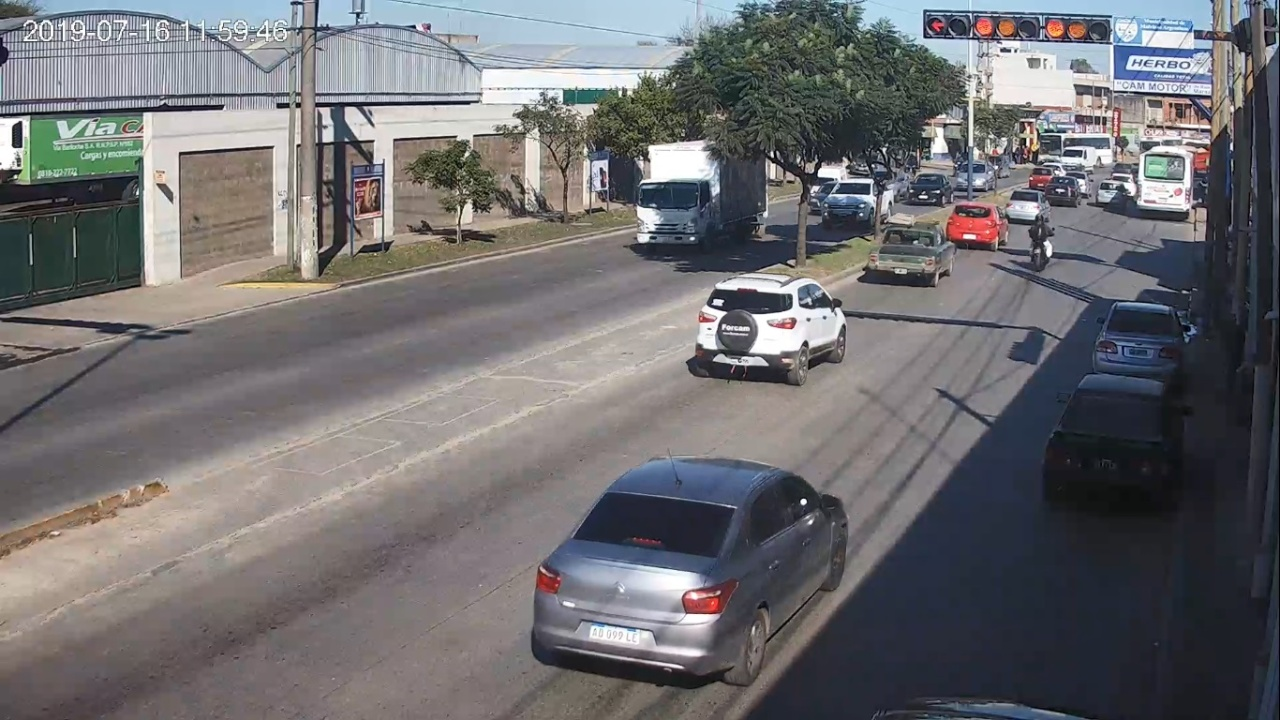car: (536, 456, 847, 686), (1043, 372, 1193, 509), (696, 273, 847, 385)
motorcycle: (1028, 227, 1056, 272)
traffic light: (973, 15, 1110, 40)
